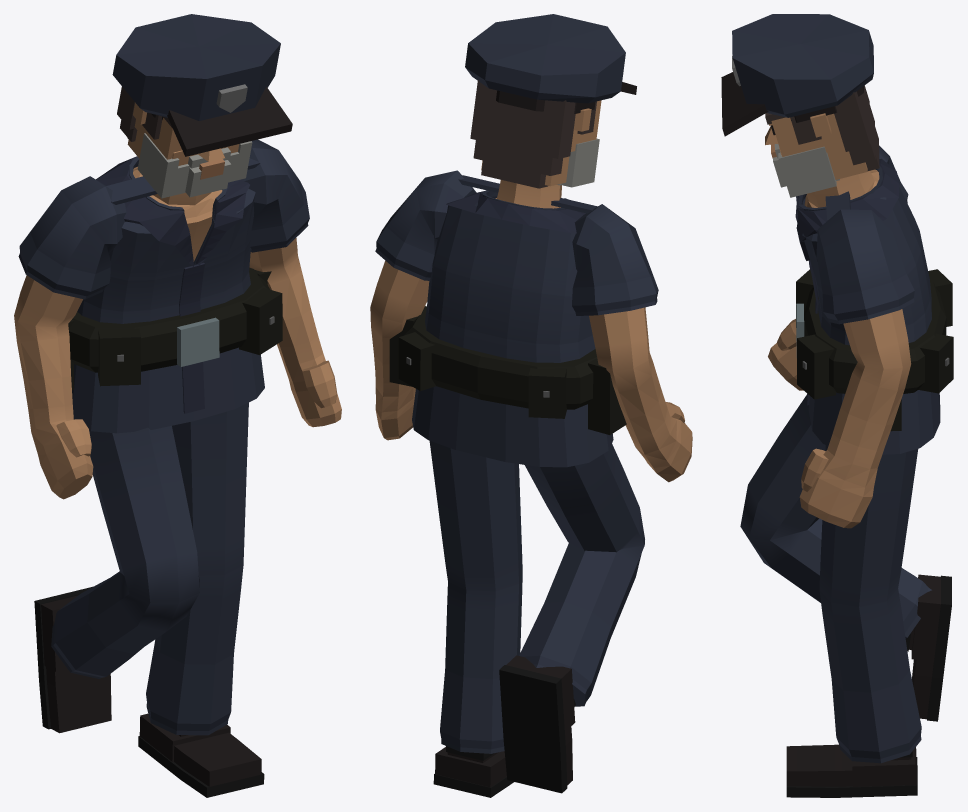
The model's file is police-officer-1cc379__walk2.glb.
3 renders of one model, left to right at view 1: azimuth 30°, elevation 25°; view 2: azimuth 150°, elevation 25°; view 3: azimuth 270°, elevation 25°, orthographic. The views are drawn at different scales.
Visible parts, largest first — view 1: police-officer-1cc379__walk2; view 2: police-officer-1cc379__walk2; view 3: police-officer-1cc379__walk2.
Part boxes in pixels (x1=…): police-officer-1cc379__walk2: x1=14, y1=14, x2=341, y2=797; police-officer-1cc379__walk2: x1=370, y1=14, x2=692, y2=797; police-officer-1cc379__walk2: x1=721, y1=14, x2=953, y2=797.
Bounding box in the file's own units: 0.7249 × 1.73 × 0.5007.
